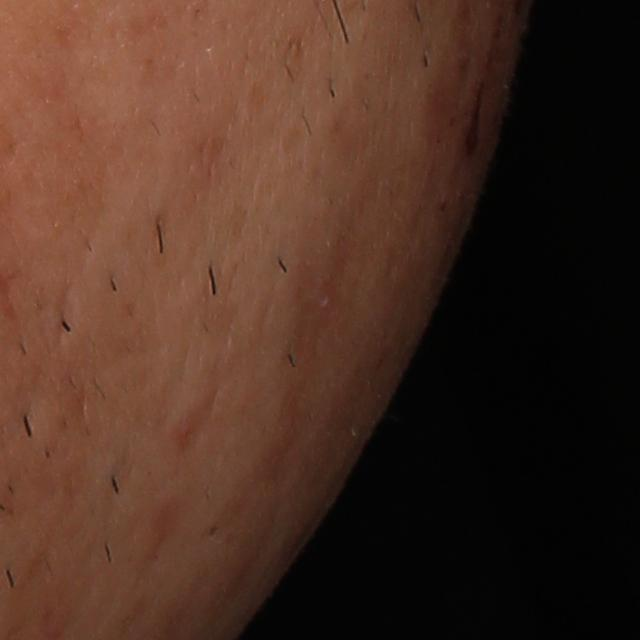atrophic_scar: (168, 335, 206, 391), (48, 279, 78, 347)
